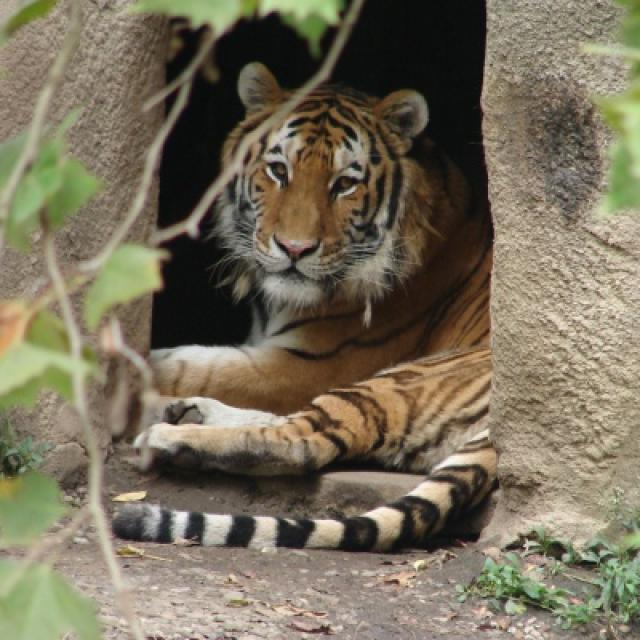Tiger: (113, 59, 498, 554)
